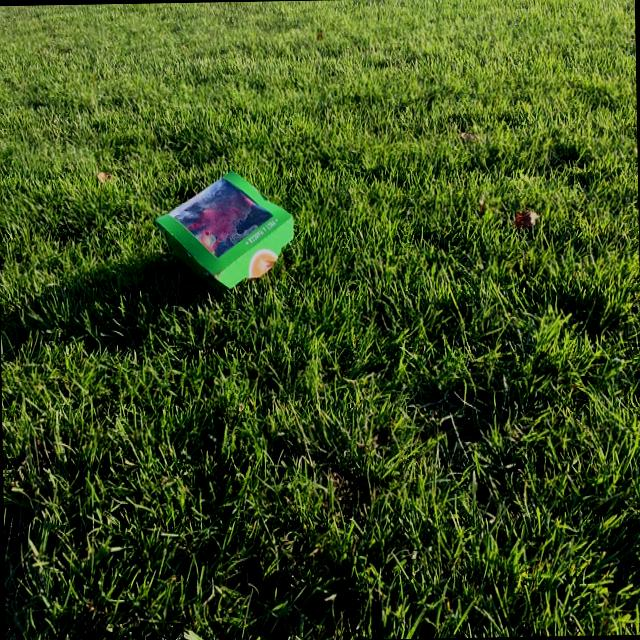Trash: (154, 169, 296, 296)
